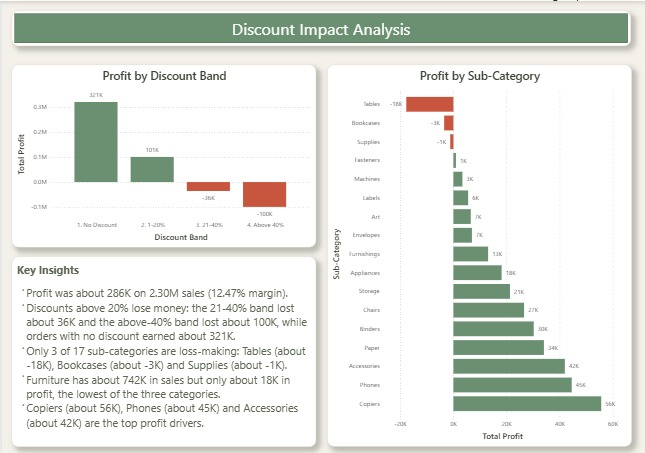

What the dashboard file says about the page in this screenshot:
{"tool":"powerbi","page":{"name":"Discount Impact","canvas":[1280,900],"ordinal":2},"visuals":[{"type":"shape","title":"Product & Customer Analysis","box":[20,20,1220,70],"z":0},{"type":"clusteredColumnChart","title":"Profit by Discount Band","fields":{"Category":["Superstore.Discount Band"],"Y":["Superstore.Total Profit"]},"box":[20,126,600,360],"z":1000},{"type":"clusteredBarChart","title":"Profit by Sub-Category","fields":{"Category":["Superstore.Sub-Category"],"Y":["Superstore.Total Profit"]},"box":[640,125,600,752.5],"z":2000},{"type":"textbox","box":[20,502.5,600,375],"z":3000}]}

Visuals, with their boxes in screenshot pixels (x1, y1, x2, y2), scaled from the page's 1280x900 canvas onto the 645x453 screenshot:
"Product & Customer Analysis" shape: detection(10, 10, 625, 45)
"Profit by Discount Band" clusteredColumnChart: detection(10, 63, 312, 245)
"Profit by Sub-Category" clusteredBarChart: detection(322, 63, 625, 442)
textbox: detection(10, 253, 312, 442)
